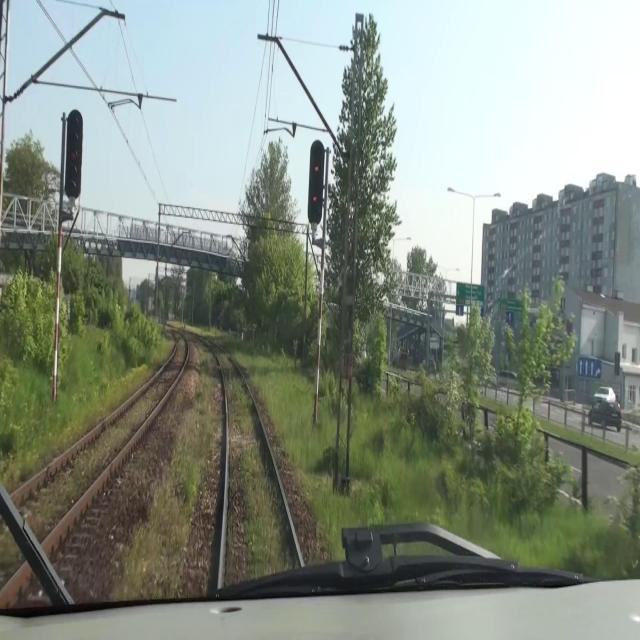rail-track: (0, 334, 186, 584), (210, 344, 302, 594)
